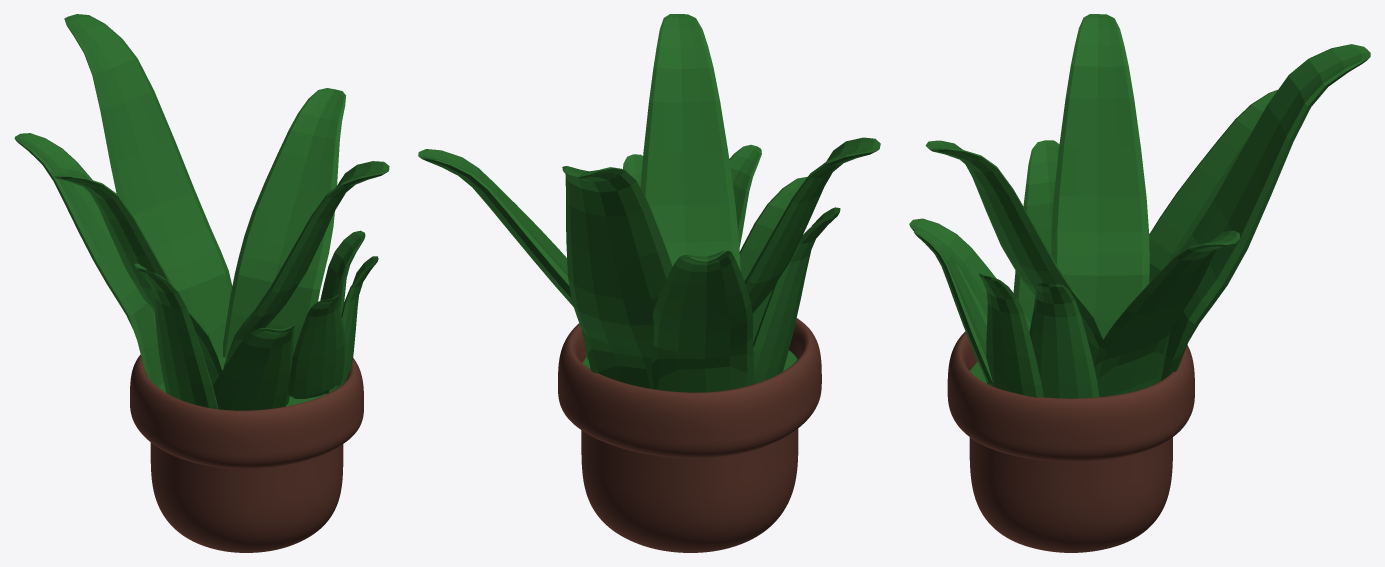
3 renders of one model, left to right at view 1: azimuth 30°, elevation 25°; view 2: azimuth 150°, elevation 25°; view 3: azimuth 270°, elevation 25°, orthographic. The views are drawn at different scales.
Visible parts, largest first — view 1: Cube, Plane.009, Plane.005, Plane.006, Plane, Plane.002, Plane.008, Plane.010, Plane.004, Plane.003, Plane.001; view 2: Cube, Plane.010, Plane.009, Plane.006, Plane.008, Plane.002, Plane.005, Plane, Plane.004; view 3: Cube, Plane.008, Plane.009, Plane.005, Plane.010, Plane.003, Plane.006, Plane.001, Plane.002, Plane.004, Plane.
Part boxes in pixels (bbox=[...]): Cube: bbox=[130, 355, 363, 552]; Plane.009: bbox=[64, 14, 232, 358]; Plane.005: bbox=[223, 88, 345, 357]; Plane.006: bbox=[14, 133, 163, 387]; Plane: bbox=[213, 324, 294, 410]; Plane.002: bbox=[134, 263, 218, 409]; Plane.008: bbox=[51, 168, 221, 385]; Plane.010: bbox=[223, 161, 389, 368]; Plane.004: bbox=[288, 294, 345, 398]; Plane.003: bbox=[320, 230, 365, 314]; Plane.001: bbox=[326, 256, 378, 394]; Cube: bbox=[558, 318, 821, 552]; Plane.010: bbox=[640, 14, 740, 271]; Plane.009: bbox=[562, 166, 672, 389]; Plane.006: bbox=[650, 250, 754, 392]; Plane.008: bbox=[744, 137, 880, 313]; Plane.002: bbox=[753, 207, 840, 383]; Plane.005: bbox=[418, 149, 573, 306]; Plane: bbox=[739, 176, 807, 342]; Plane.004: bbox=[729, 144, 761, 247]; Cube: bbox=[947, 331, 1194, 552]; Plane.008: bbox=[1051, 14, 1149, 339]; Plane.009: bbox=[1160, 44, 1370, 380]; Plane.005: bbox=[1093, 230, 1240, 397]; Plane.010: bbox=[925, 140, 1102, 364]; Plane.003: bbox=[1029, 283, 1099, 398]; Plane.006: bbox=[1149, 90, 1277, 283]; Plane.001: bbox=[979, 273, 1043, 397]; Plane.002: bbox=[1013, 140, 1059, 323]; Plane.004: bbox=[914, 230, 992, 385]; Plane: bbox=[909, 218, 1030, 331].
Size of the model in its own units: 1.08 by 1.27 by 1.14.
